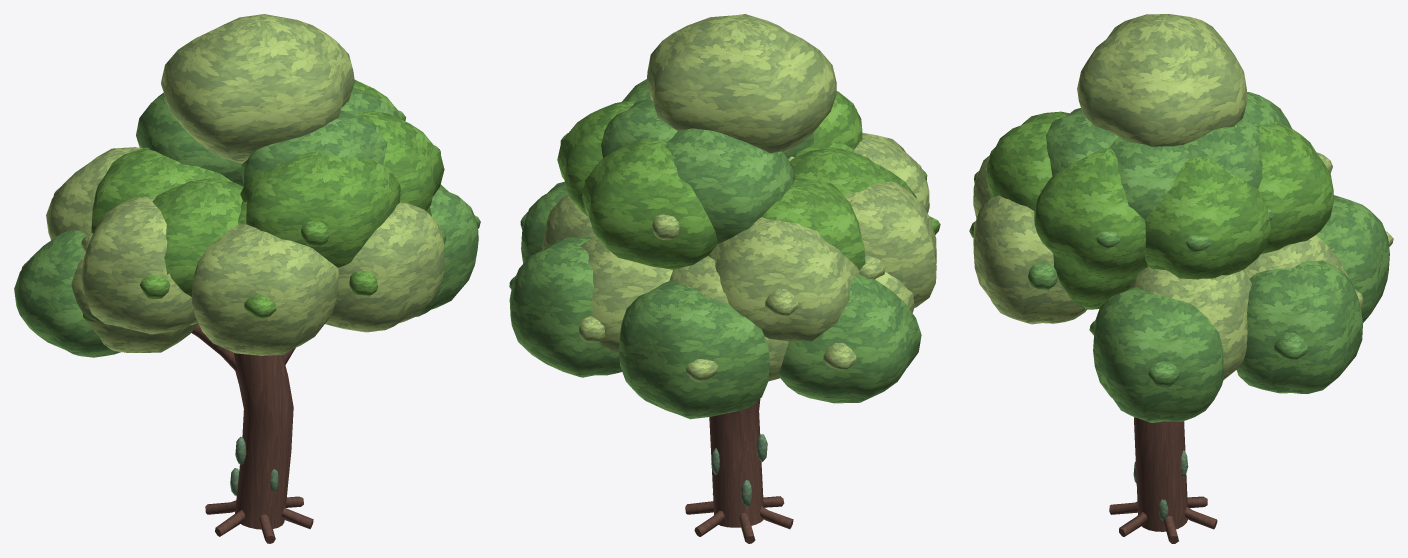
File: tree_3.glb
The picture shows the model from 3 angles, left to right: view 1: azimuth 30°, elevation 25°; view 2: azimuth 150°, elevation 25°; view 3: azimuth 270°, elevation 25°; orthographic projection.
Parts seen in each view (by area): view 1: tree_3; view 2: tree_3; view 3: tree_3.
Boxes of the visible parts, left/top/right/bottom form: tree_3: left=14, top=14, right=480, bottom=543; tree_3: left=509, top=14, right=940, bottom=543; tree_3: left=969, top=14, right=1393, bottom=543.
Size of the model in its own units: 5.97 by 6.84 by 5.26.
Materials: 1 (1 with a texture image).
